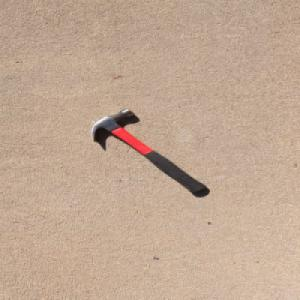Hammer: (90, 107, 207, 194)
